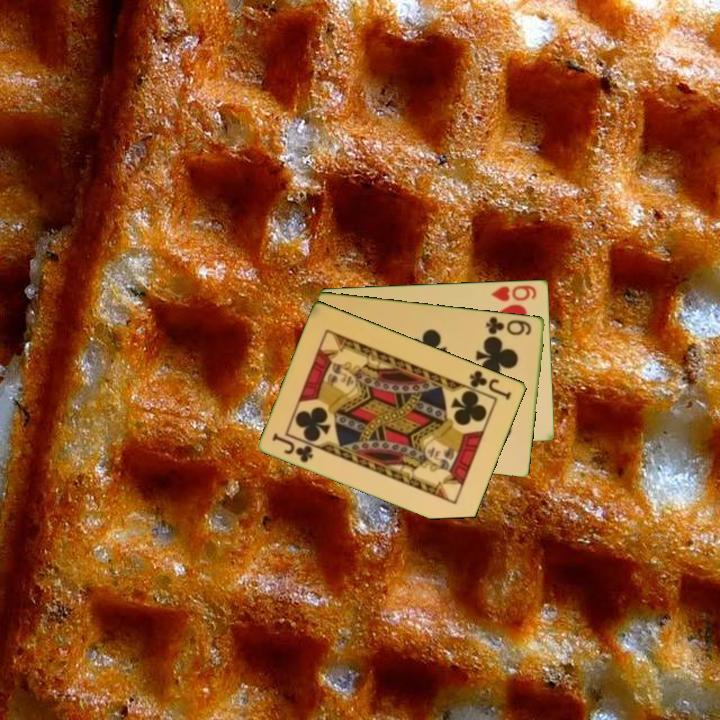6c: (482, 313, 535, 338)
6h: (488, 281, 540, 304)
Jc: (466, 366, 515, 403), (269, 429, 317, 465)
